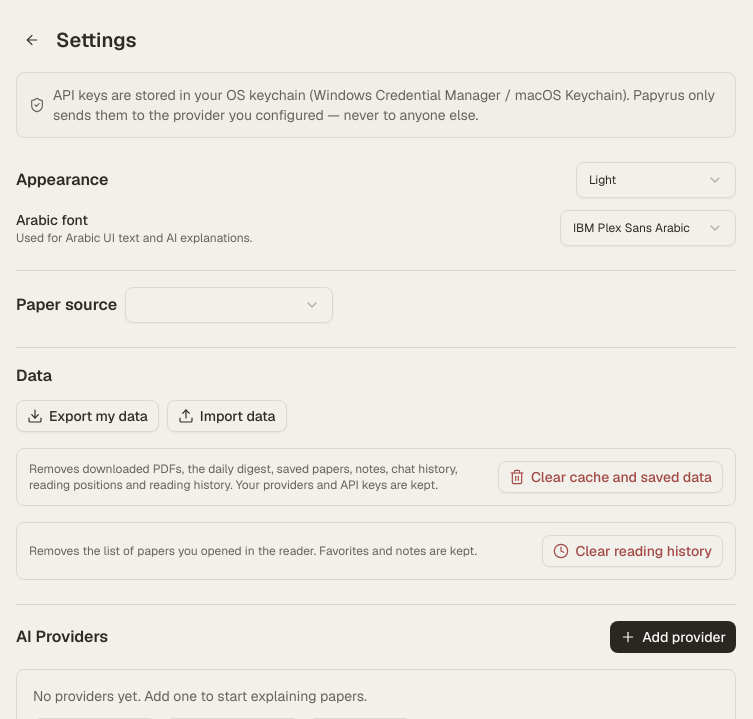
Test: settings page › opens the provider form from the Add button
Click the button "Add provider" at x=673, y=637, box [610, 621, 736, 653]
(page scrolled)
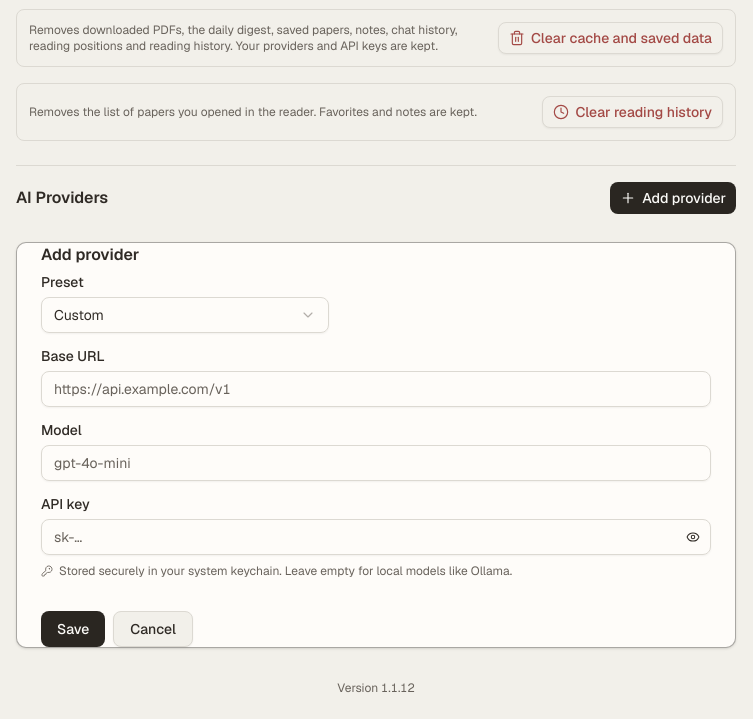
Check: the text "Base URL" is shown, box [41, 347, 105, 365]
Check: the button "Save" is shown, box [41, 611, 105, 647]
